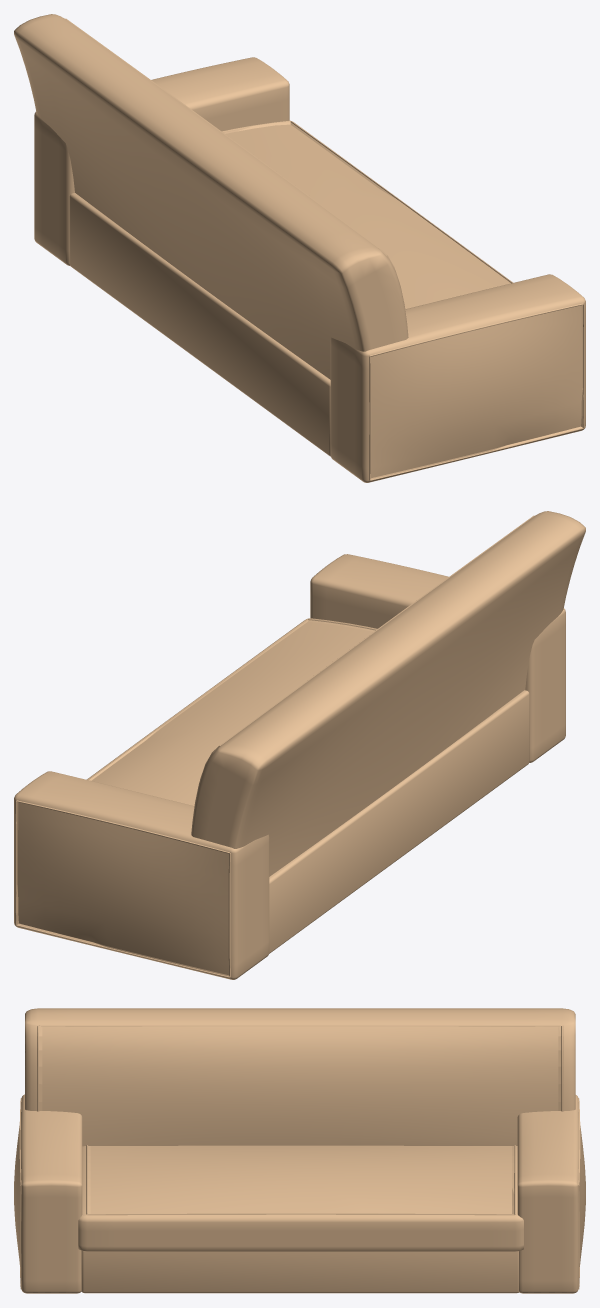
Rendered from Couch_Main.FBX.
The picture shows the model from 3 angles, top to bottom: view 1: azimuth 30°, elevation 25°; view 2: azimuth 150°, elevation 25°; view 3: azimuth 270°, elevation 25°; orthographic projection. The views are drawn at different scales.
Visible parts, largest first — view 1: ChamferBox05, ChamferBox02, ChamferBox04, ChamferBox03, ChamferBox01; view 2: ChamferBox05, ChamferBox01, ChamferBox04, ChamferBox03, ChamferBox02; view 3: ChamferBox05, ChamferBox03, ChamferBox04, ChamferBox02, ChamferBox01.
Part boxes in pixels (box(x1,y1,x2,y2)): ChamferBox05: box(14, 14, 408, 379); ChamferBox02: box(330, 274, 585, 482); ChamferBox04: box(69, 193, 330, 456); ChamferBox03: box(222, 120, 513, 309); ChamferBox01: box(34, 57, 289, 265); ChamferBox05: box(191, 511, 585, 876); ChamferBox01: box(14, 771, 269, 979); ChamferBox04: box(269, 690, 529, 953); ChamferBox03: box(86, 618, 376, 805); ChamferBox02: box(310, 554, 565, 762); ChamferBox05: box(25, 1008, 575, 1146); ChamferBox03: box(78, 1145, 523, 1251); ChamferBox04: box(81, 1251, 519, 1293); ChamferBox02: box(14, 1094, 82, 1293); ChamferBox01: box(517, 1095, 585, 1293).
Size of the model in its own units: 38.4 by 33.61 by 90.91.
